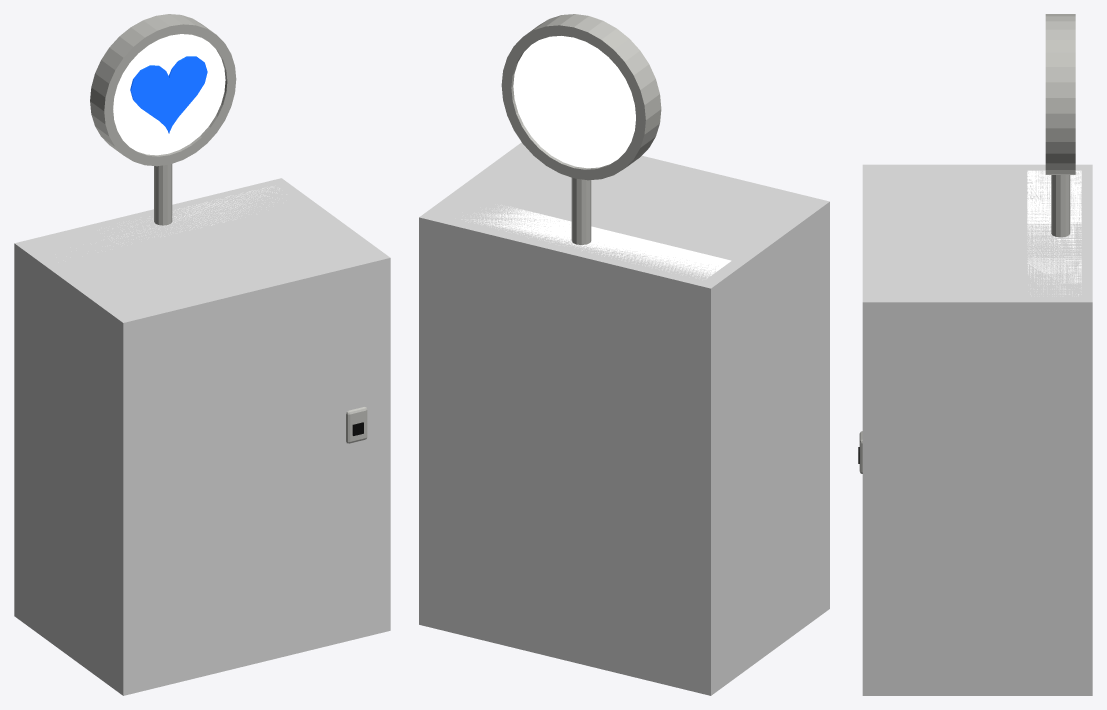
Rendered from lazarus.glb.
3 renders of one model, left to right at view 1: azimuth 30°, elevation 25°; view 2: azimuth 150°, elevation 25°; view 3: azimuth 270°, elevation 25°, orthographic. The views are drawn at different scales.
Visible parts, largest first — view 1: col_0, chrome, lit_sign, lit_ink; view 2: col_0, lit_sign, chrome; view 3: col_0, chrome, lit_sign.
Boxes of the visible parts, x1,y1,x2,y2 form: col_0: (14, 178, 390, 695); chrome: (90, 14, 367, 443); lit_sign: (109, 34, 286, 243); lit_ink: (130, 56, 207, 133); col_0: (419, 142, 829, 695); lit_sign: (461, 36, 731, 278); chrome: (501, 14, 661, 244); col_0: (862, 164, 1092, 695); chrome: (859, 14, 1075, 473); lit_sign: (1027, 170, 1081, 295).
Size of the model in its own units: 1.02 by 2.09 by 0.734.
